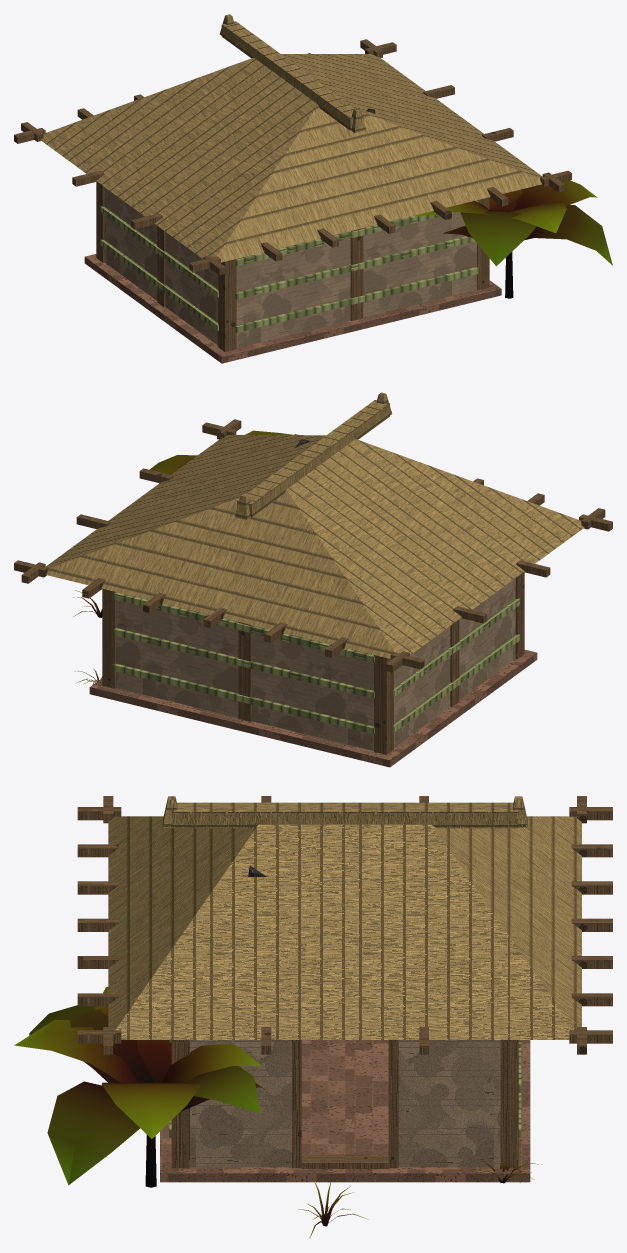
Rendered from nha_tranh_02.glb.
The picture shows the model from 3 angles, top to bottom: view 1: azimuth 30°, elevation 25°; view 2: azimuth 150°, elevation 25°; view 3: azimuth 270°, elevation 25°; orthographic projection. The views are drawn at different scales.
Visible parts, largest first — view 1: nha_tranh_02, nha_tranh_02_veg_00_banana_a; view 2: nha_tranh_02, nha_tranh_02_veg_00_banana_a; view 3: nha_tranh_02, nha_tranh_02_veg_00_banana_a.
Boxes of the visible parts, x1,y1,x2,y2 form: nha_tranh_02: [14, 14, 571, 363]; nha_tranh_02_veg_00_banana_a: [415, 180, 612, 298]; nha_tranh_02: [14, 392, 612, 767]; nha_tranh_02_veg_00_banana_a: [149, 430, 293, 474]; nha_tranh_02: [77, 796, 612, 1182]; nha_tranh_02_veg_00_banana_a: [14, 986, 266, 1187].
Bounding box in the file's own units: 8.06 × 3.9 × 7.24.
9 materials, 9 textured.
